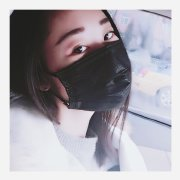face_mask: (49, 1, 131, 110)
